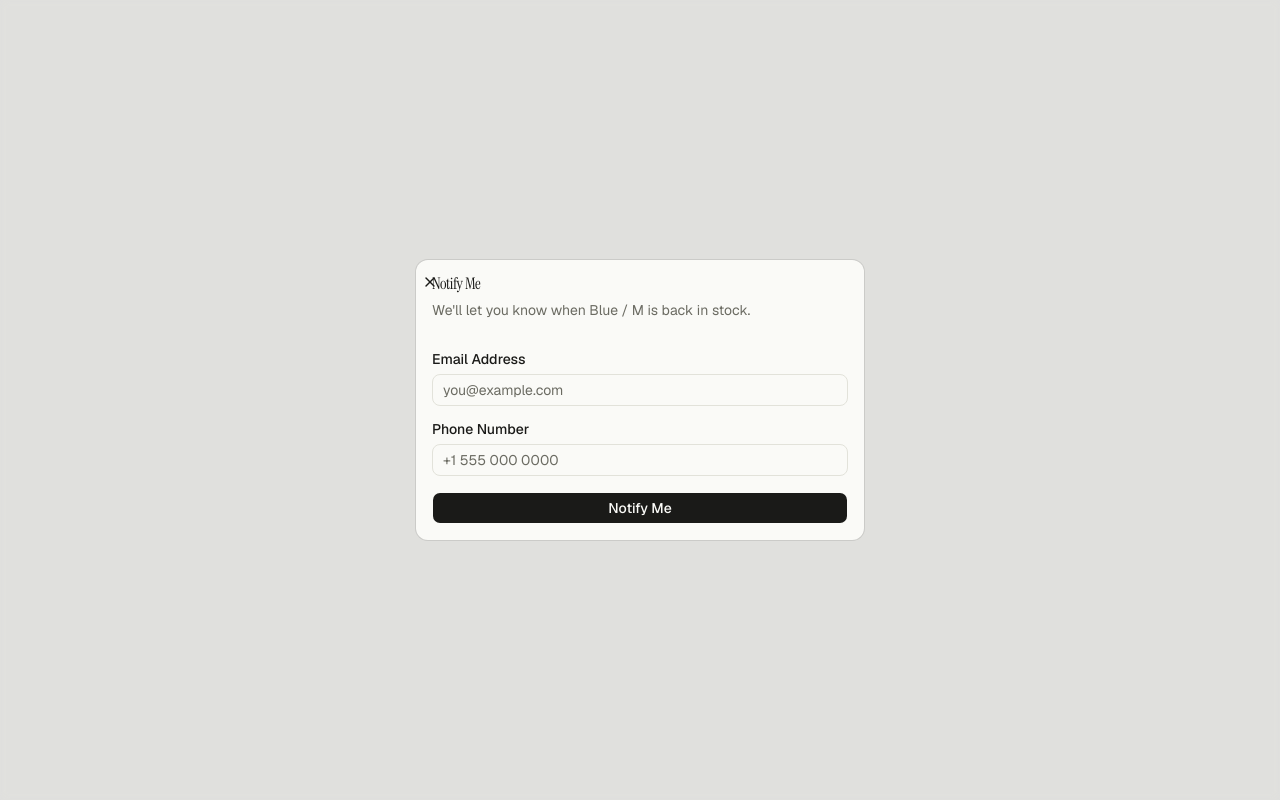
Test case: NotifyMeDialog › shows invalid-email error when phone is valid but email field has a bad value
This screenshot has width=1280, height=800.
Type "not-valid" into the field labelled "Email Address" at (640, 390), box [432,374,848,406]
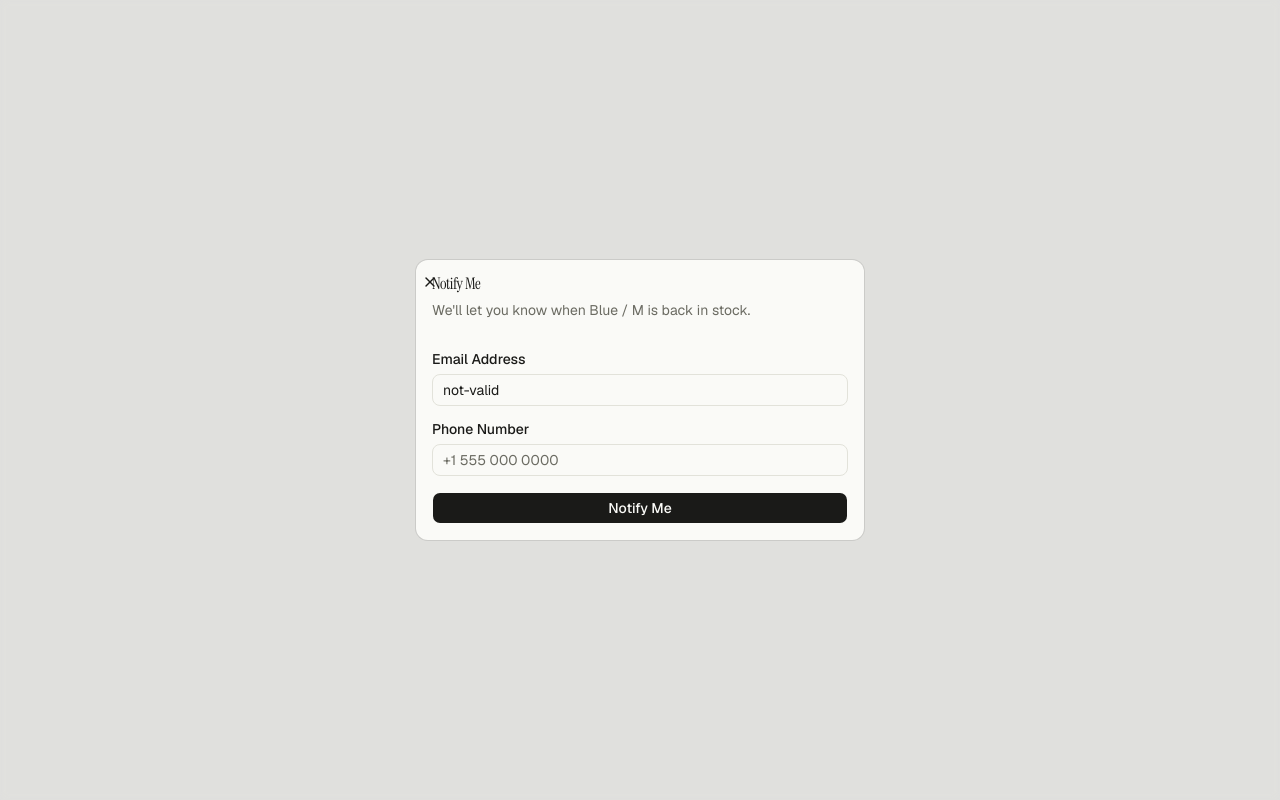
Type "+15550001111" into the field labelled "Phone Number" at (640, 460), box [432,444,848,476]
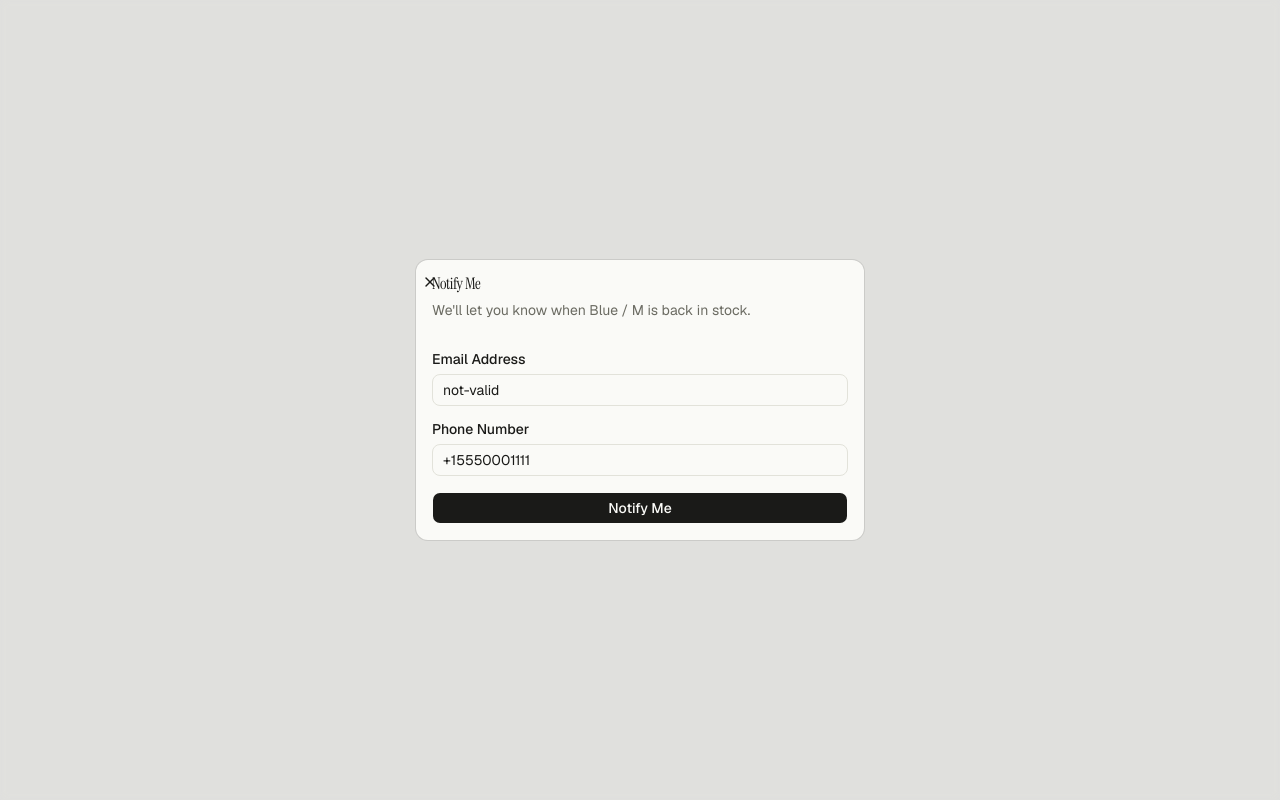
Note: Submit via the form element (same approach as the existing invalidEmail test above)
Submit the form, box [432,352,848,524]
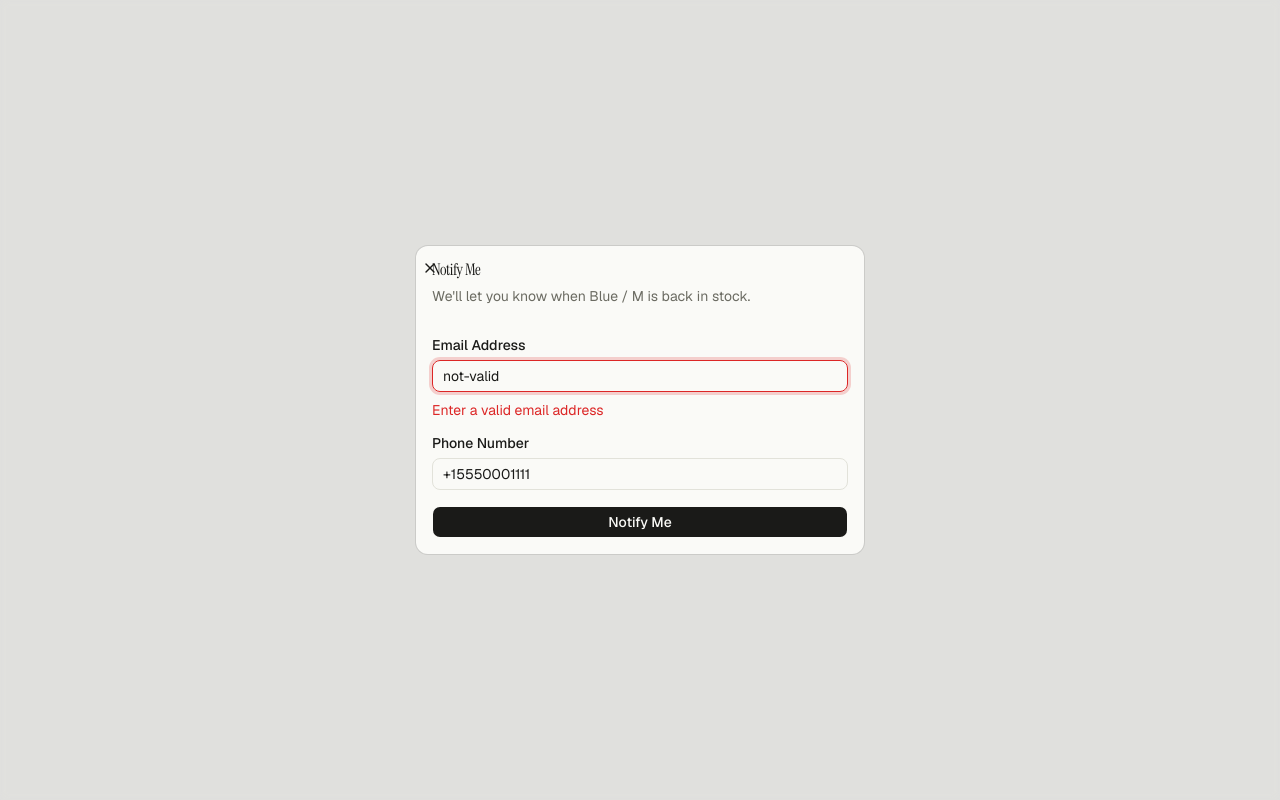
Now the text "Enter a valid email address" is shown, box [432,401,604,419]
